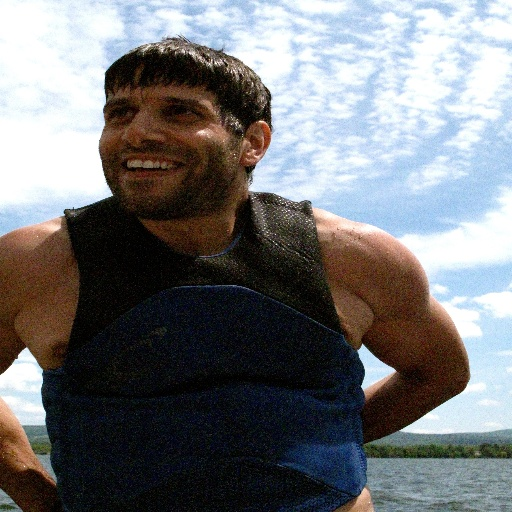hand: (0, 416, 41, 504)
